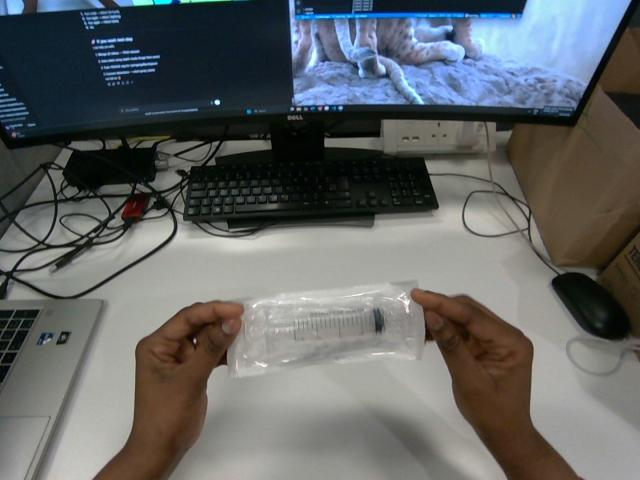syringe: (227, 282, 424, 376)
